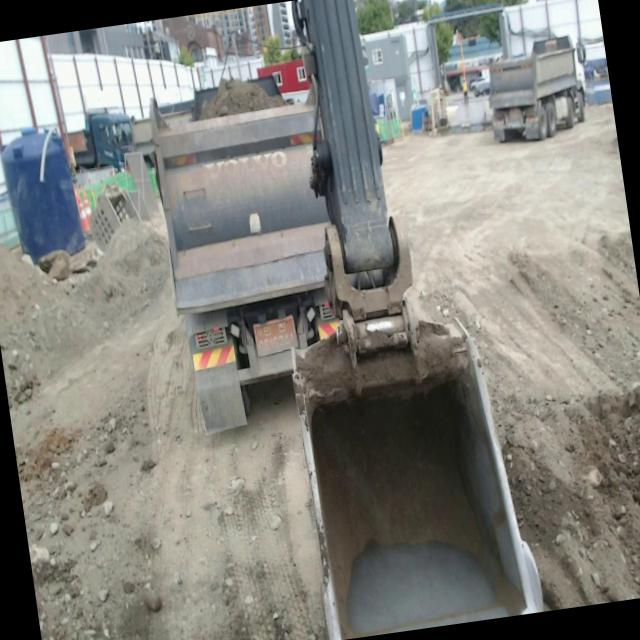white-sand: (0, 218, 328, 640), (384, 106, 640, 612)
